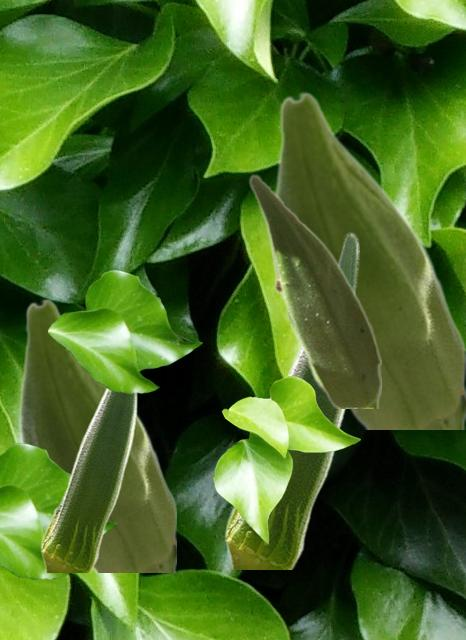okra: (270, 91, 464, 428), (224, 231, 358, 568), (18, 298, 175, 571), (248, 173, 380, 407), (40, 388, 138, 571)
